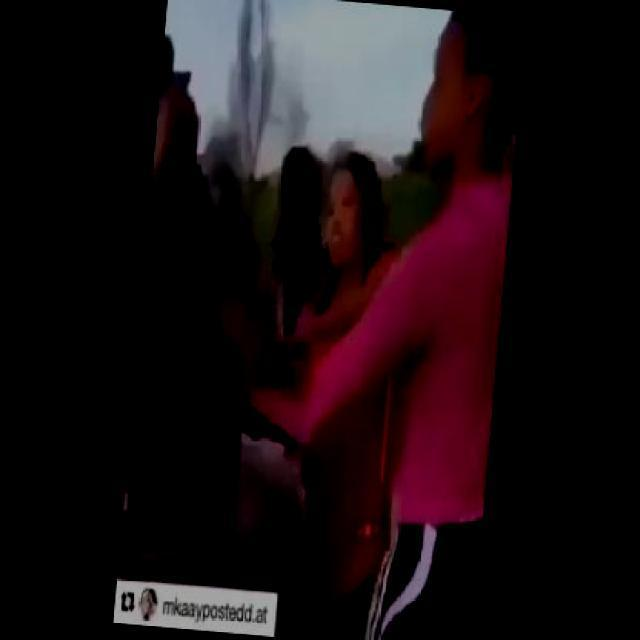fight: (118, 46, 431, 599)
